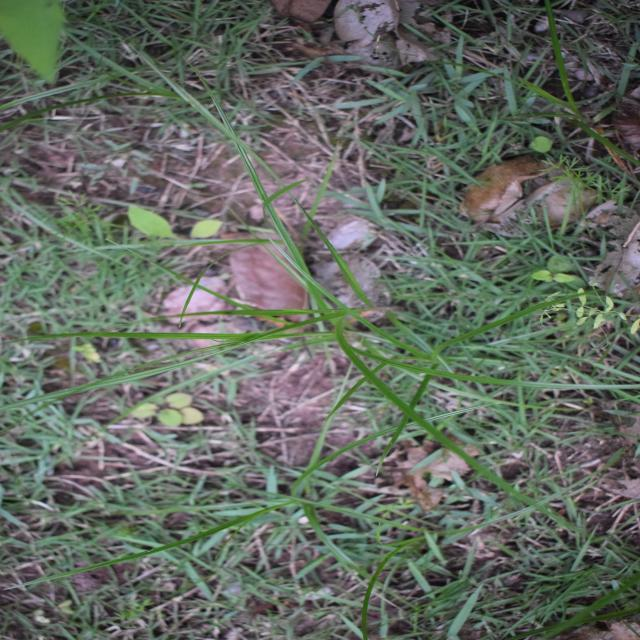sedge: (154, 59, 462, 530)
